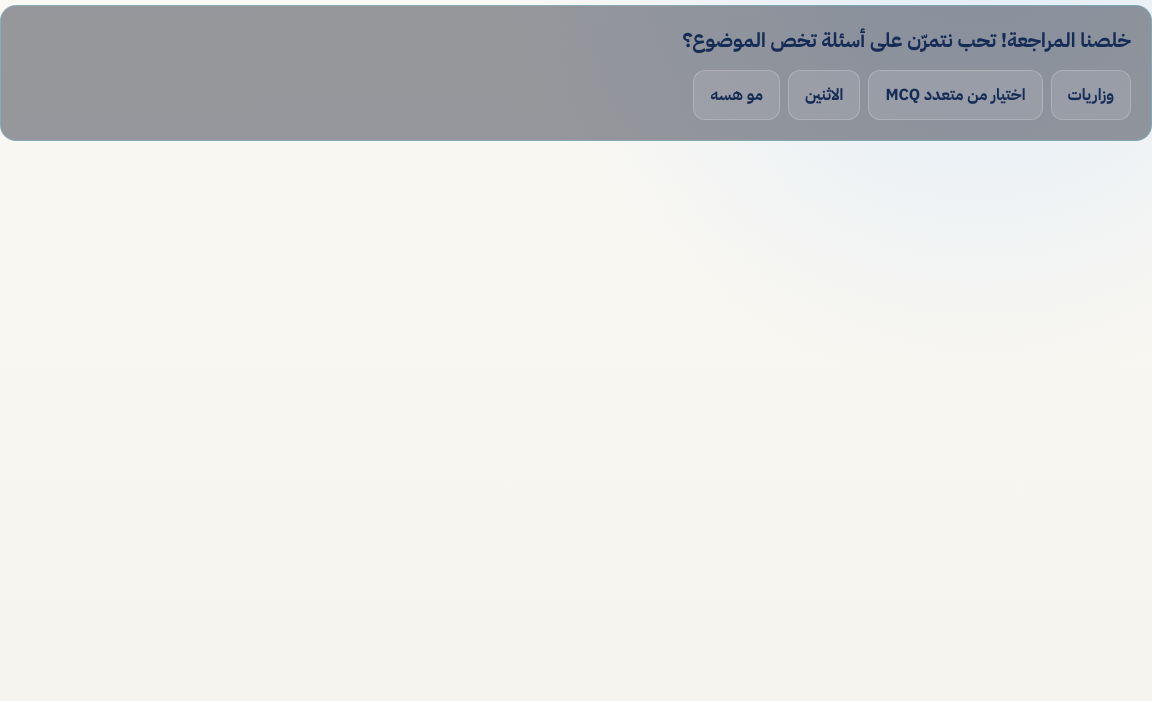
Scenario: loads the selected type on demand and reveals feedback after an answer
Later steps or results of the test are not shown.
Click the button "اختيار من متعدد MCQ": x=956, y=95 [868,70,1043,120]
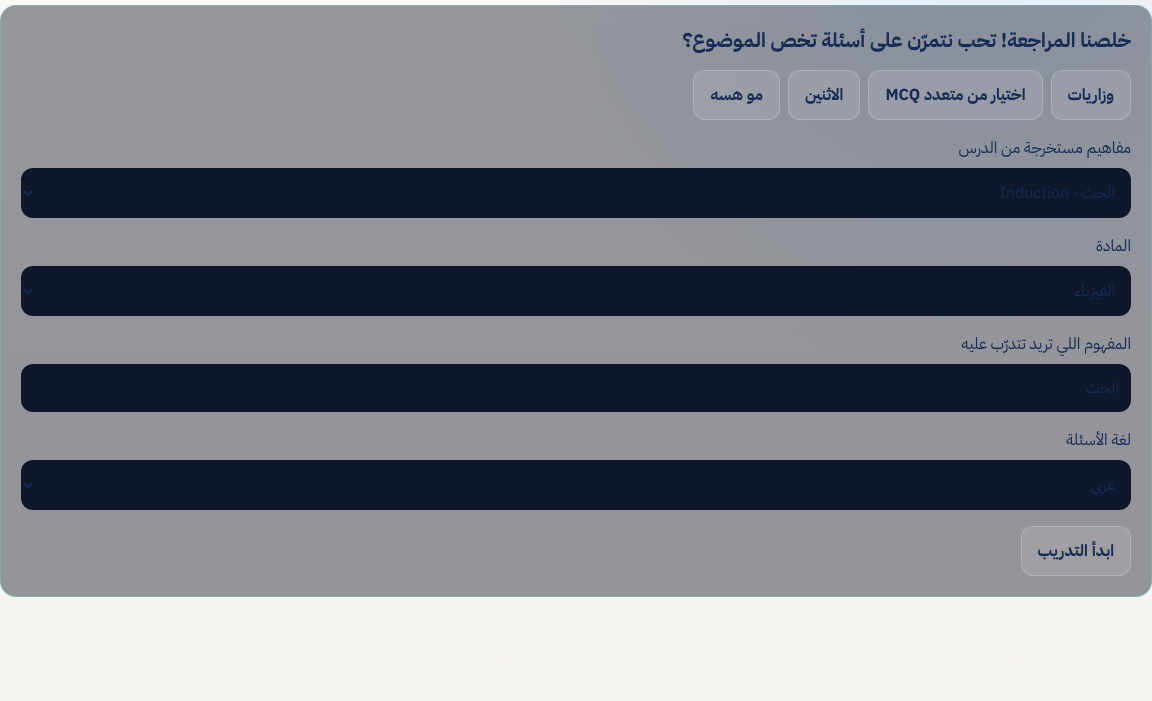
Click the button "ابدأ التدريب": x=1076, y=551 [1021,526,1131,576]
(page scrolled)
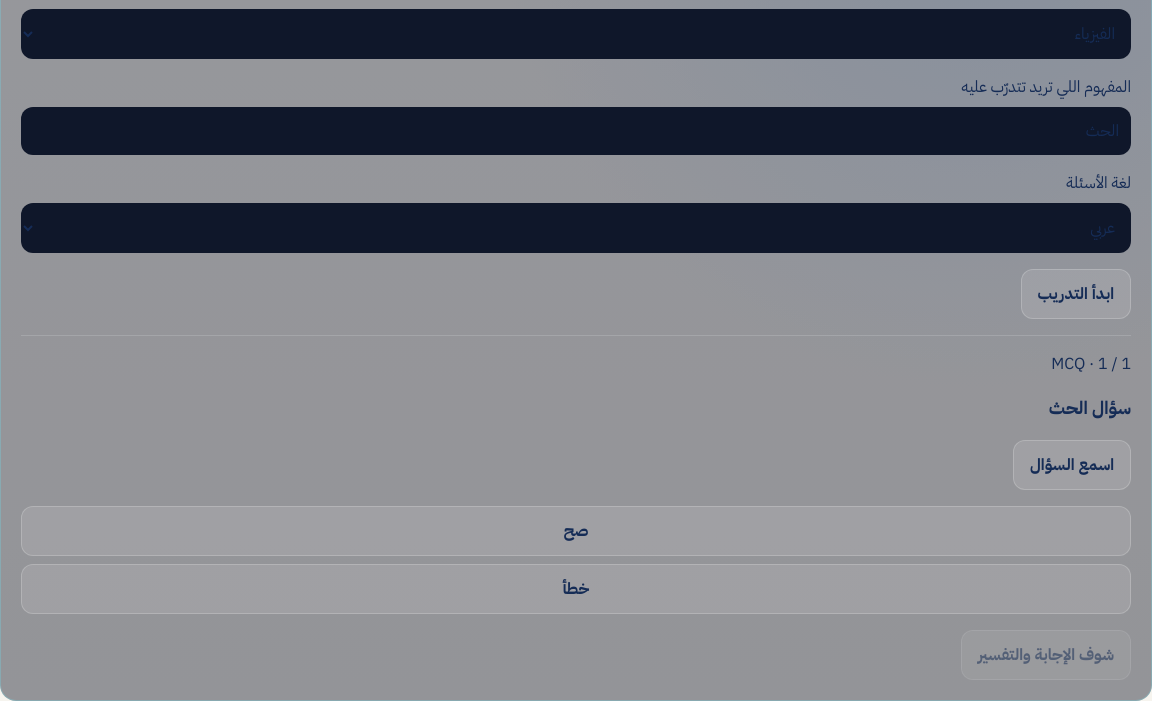
Expected: the heading "سؤال الحث" is shown, [1049,394,1131,421]
Click the button "صح": x=576, y=531 [21,506,1131,556]
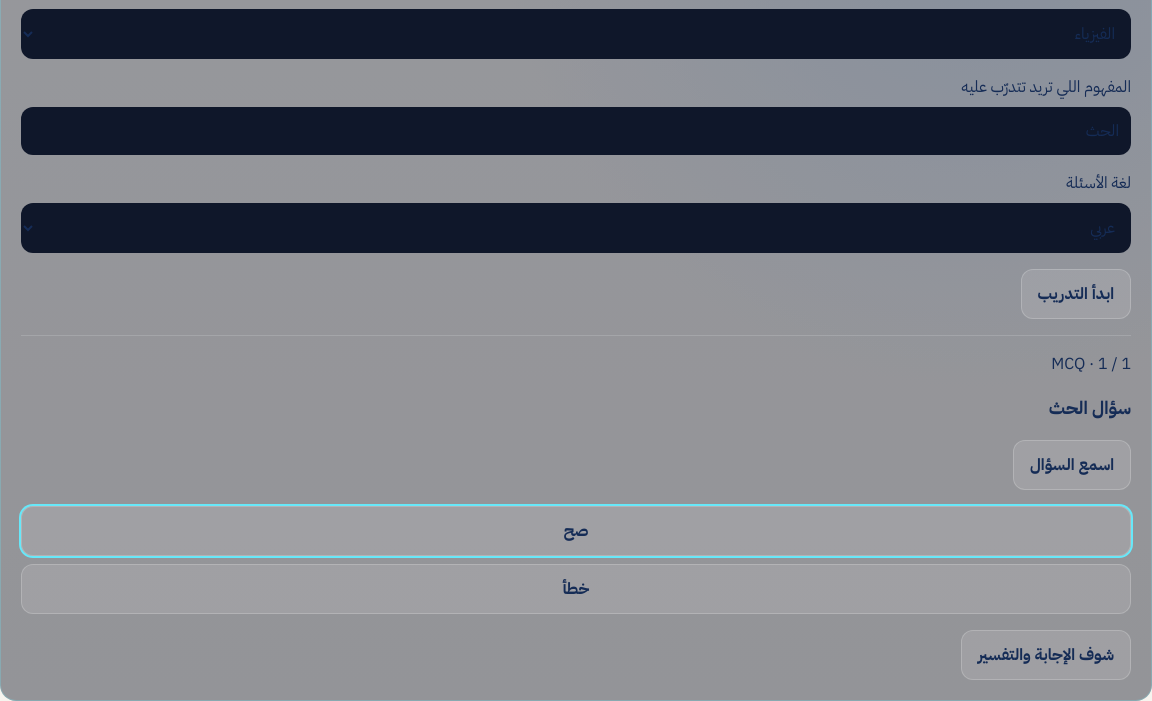
Click the button "شوف الإجابة والتفسير": x=1046, y=655 [961,630,1131,680]
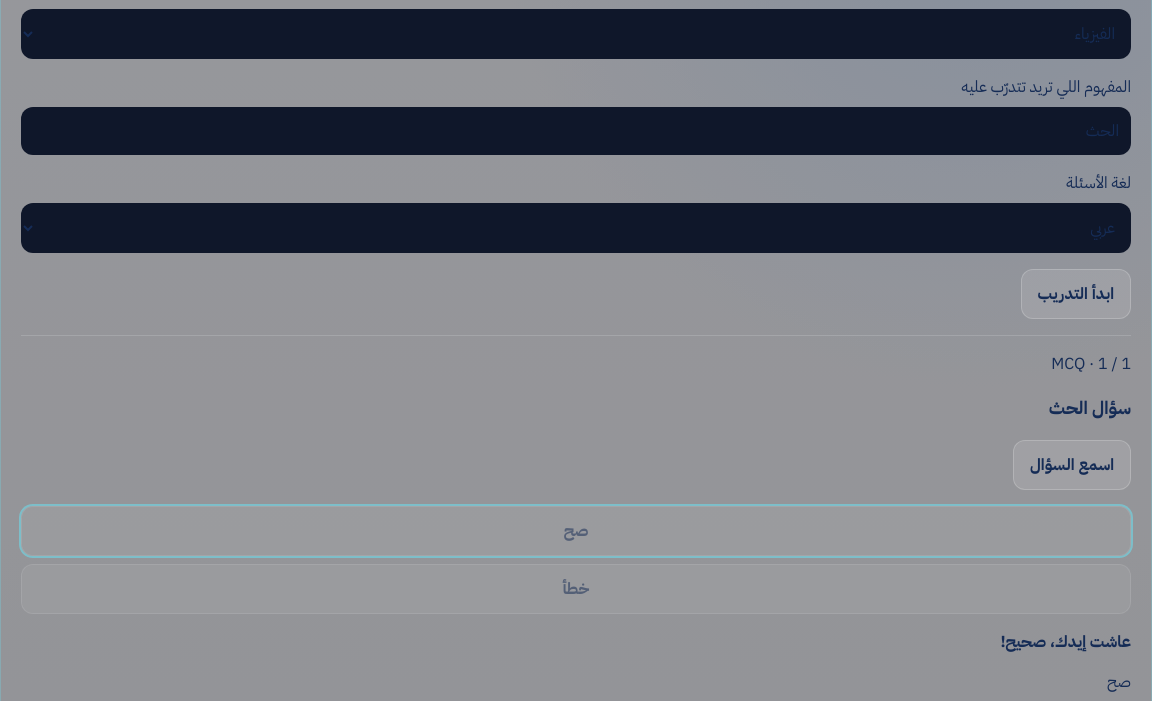
Expected: the text "عاشت إيدك، صحيح!" is shown, [1000,630,1131,654]
